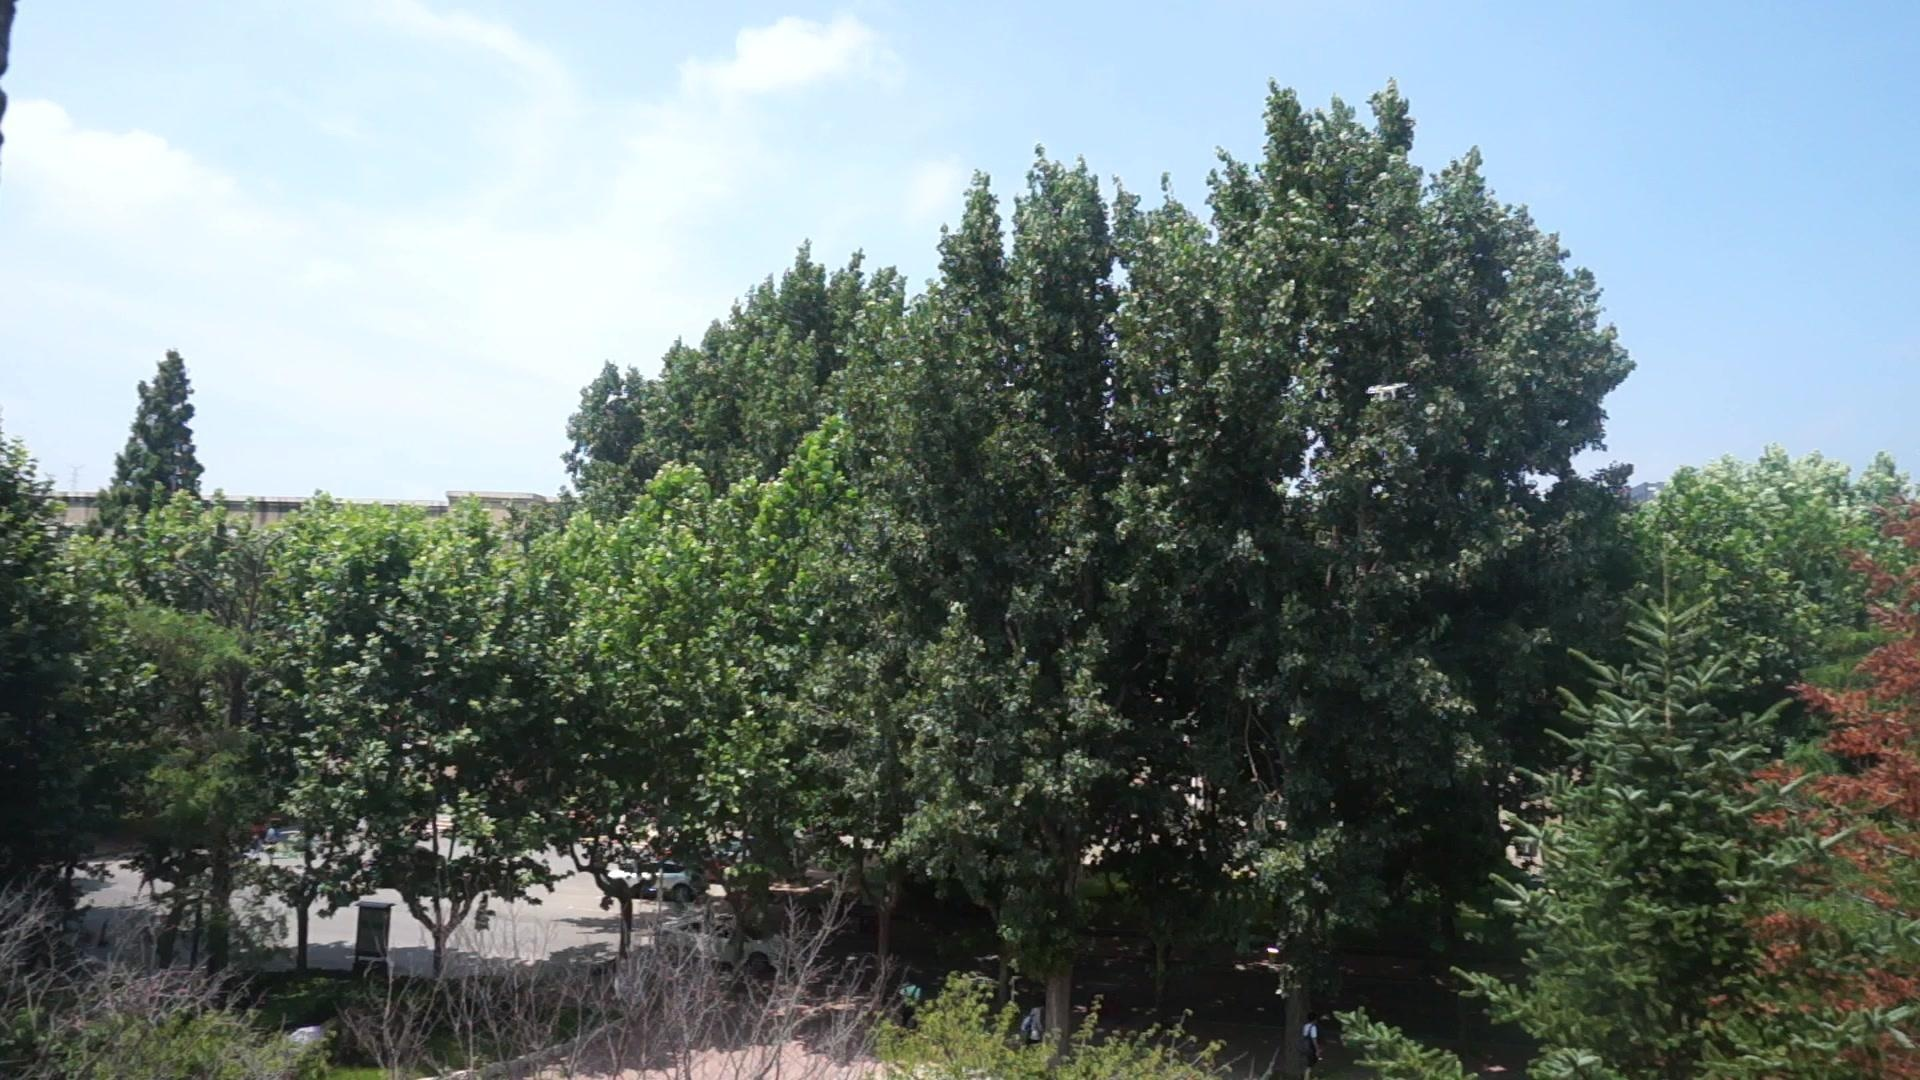UAV: (1366, 382, 1408, 401)
